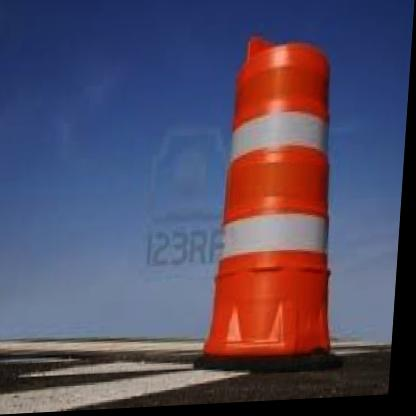obstacle: (201, 40, 355, 364)
